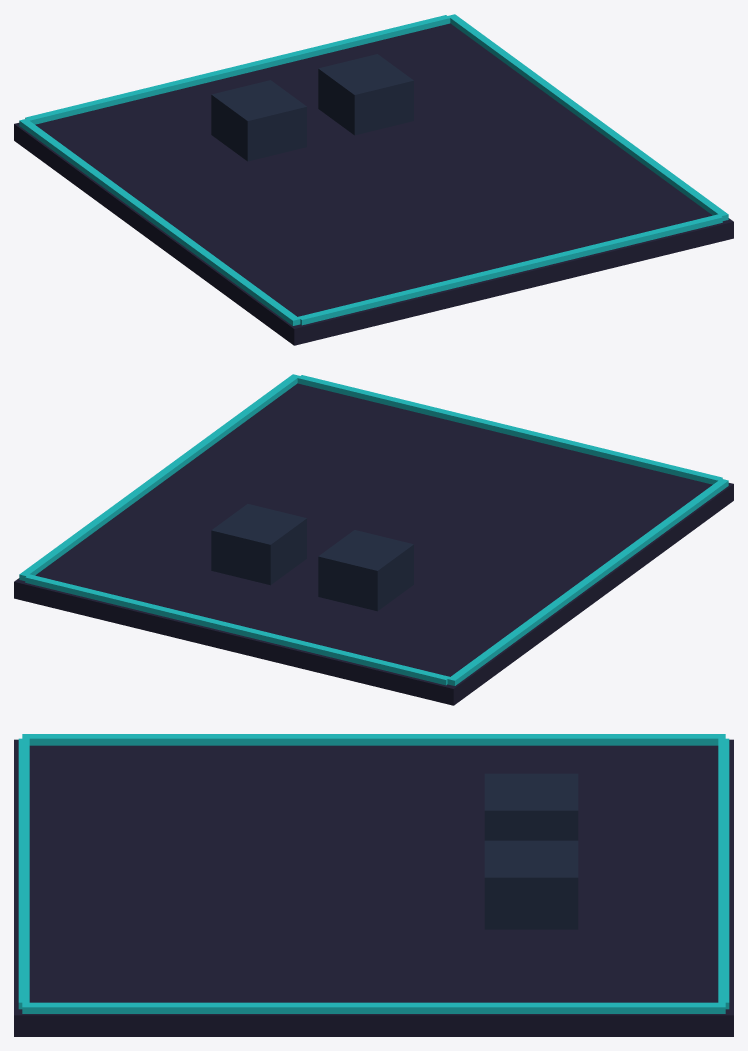
Rendered from Neon_ArcadeRoof_Standard.glb.
3 views of the same model, one above another, from view 1: azimuth 30°, elevation 25°; view 2: azimuth 150°, elevation 25°; view 3: azimuth 270°, elevation 25° (orthographic). The views are drawn at different scales.
Parts seen in each view (by area): view 1: Neon_ArcadeRoof_Standard; view 2: Neon_ArcadeRoof_Standard; view 3: Neon_ArcadeRoof_Standard.
Part boxes in pixels (bbox=[...]): Neon_ArcadeRoof_Standard: bbox=[14, 14, 733, 345]; Neon_ArcadeRoof_Standard: bbox=[14, 374, 733, 705]; Neon_ArcadeRoof_Standard: bbox=[14, 734, 733, 1036].
Size of the model in its own units: 7.7 by 0.956 by 8.5.
